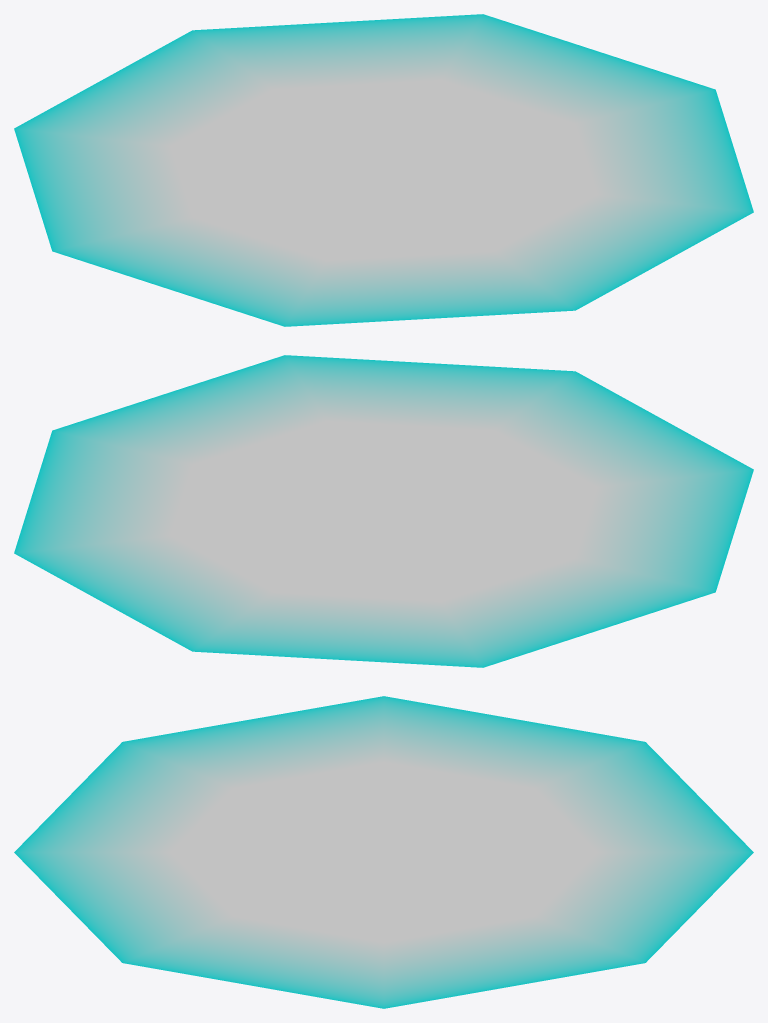
Rendered from PointGrass_EXAMPLE_ProjectorModels.fbx.
The picture shows the model from 3 angles, top to bottom: view 1: azimuth 30°, elevation 25°; view 2: azimuth 150°, elevation 25°; view 3: azimuth 270°, elevation 25°; orthographic projection. The views are drawn at different scales.
Visible parts, largest first — view 1: PG_ProjectorCircle; view 2: PG_ProjectorCircle; view 3: PG_ProjectorCircle.
Part boxes in pixels (x1,y1,x2,y2): PG_ProjectorCircle: (14, 14, 753, 326); PG_ProjectorCircle: (14, 355, 753, 667); PG_ProjectorCircle: (14, 696, 753, 1008).
Size of the model in its own units: 2 by 0 by 2.
